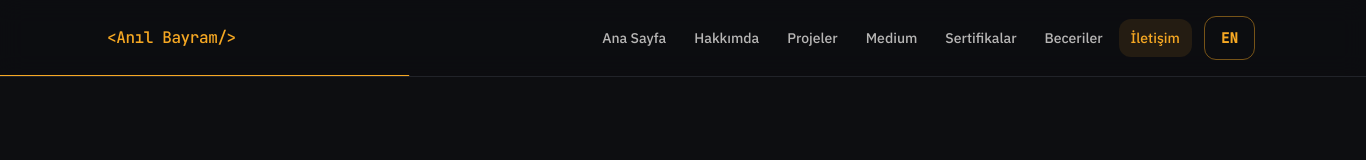
Navbar › toggles the displayed language label when the language switcher is clicked
Note: The switcher now shows only the language you would switch *to*.
Click the button "EN": point(1229, 38) x1=1204 y1=16 x2=1255 y2=60
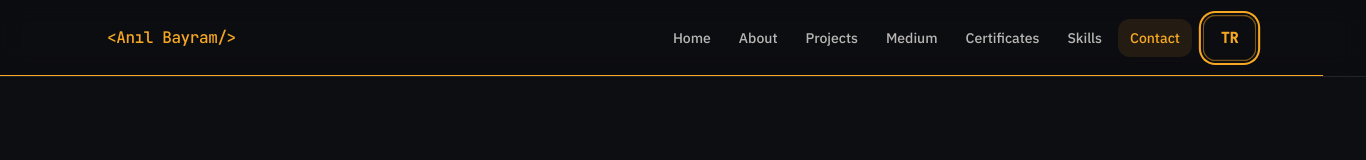
Result: the button "TR" is shown at x1=1203 y1=15 x2=1256 y2=61
